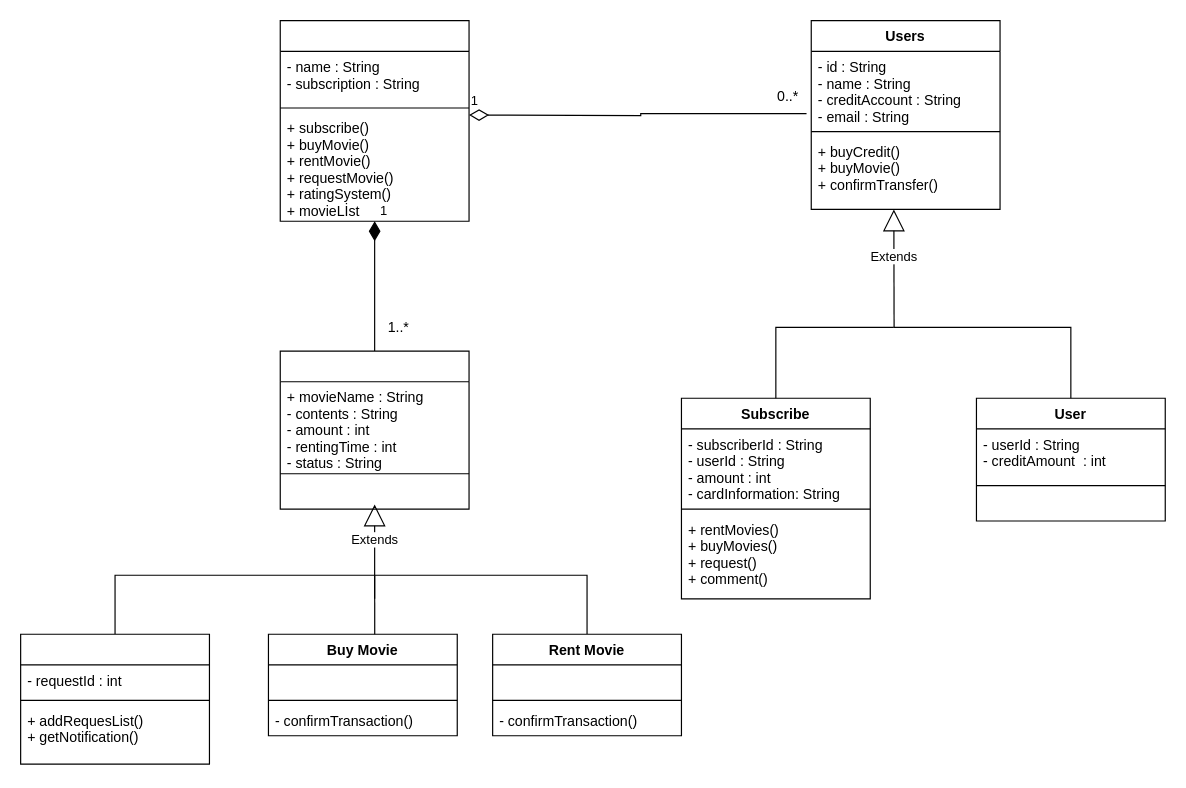
This 1186x788 diagram has some shape labels left out. Each missing label, with the box of its shape:
Movies: (279, 350, 469, 509)
Online Movie Platform: (279, 19, 469, 221)
Request Movie: (19, 633, 209, 764)
